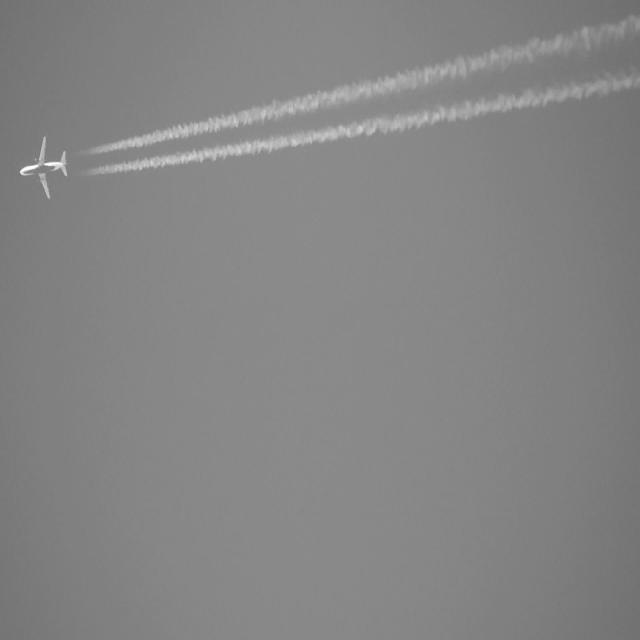aeroplane: (19, 135, 71, 202)
